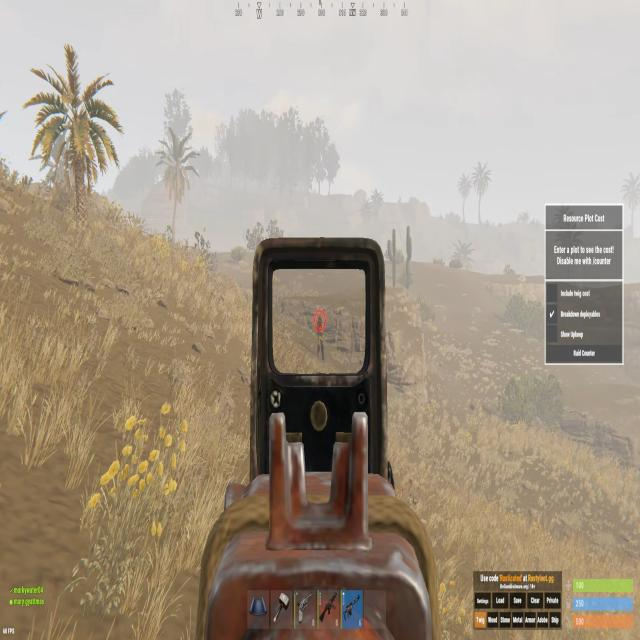Player: (315, 314, 325, 361)
